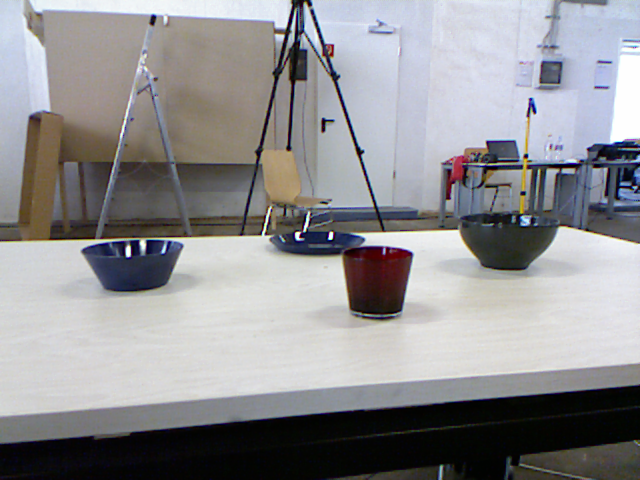bowl_bigger: (457, 212, 560, 271)
bowl_smaller: (80, 239, 184, 292)
chair: (259, 149, 336, 237)
cup: (342, 245, 414, 320)
laptop: (486, 139, 524, 162)
